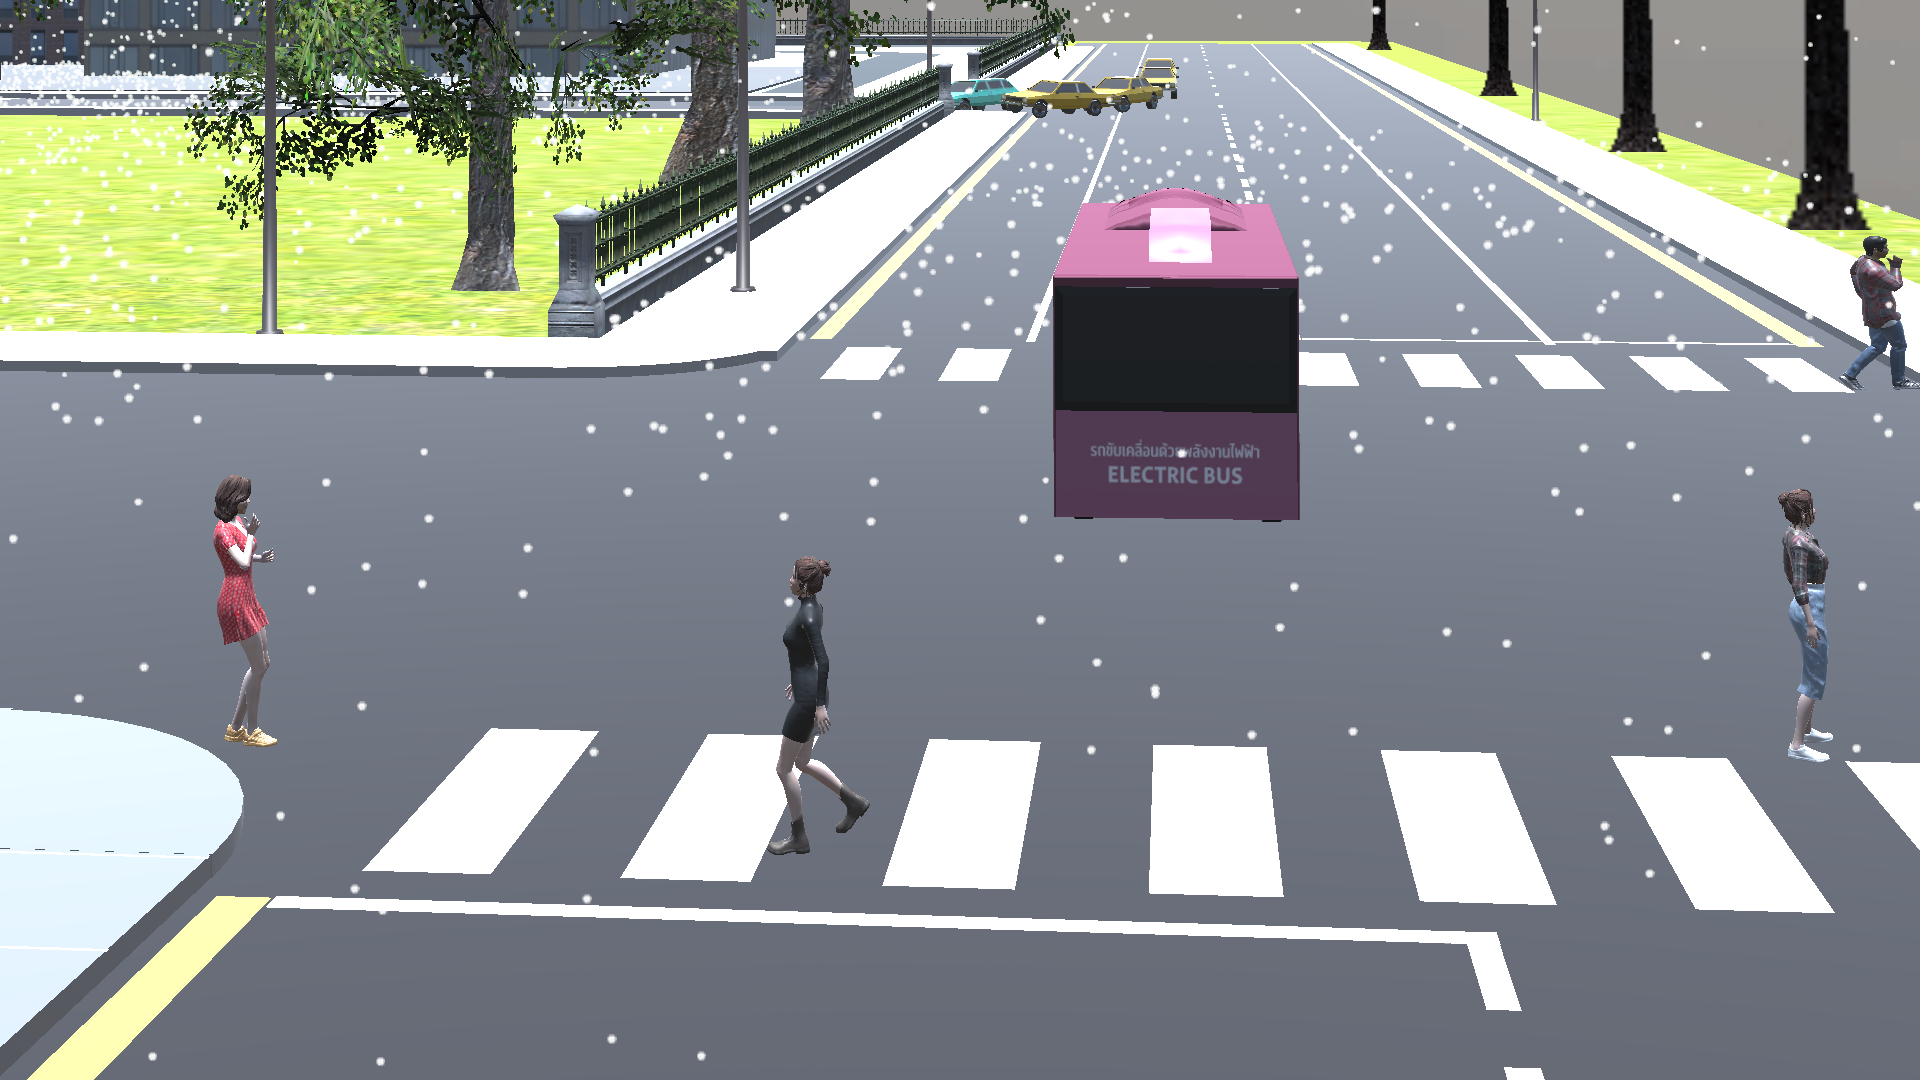pedestrian: (763, 551, 891, 867), (187, 468, 297, 756), (1768, 482, 1849, 770), (1831, 227, 1920, 396)
